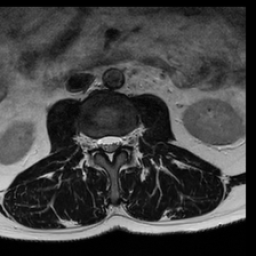CCS_normal: (106, 129, 114, 169)
LFS_normal: (123, 127, 131, 151)
LLS_normal: (115, 129, 122, 154)
RFS_normal: (90, 130, 98, 157)
RLS_normal: (98, 130, 106, 159)
